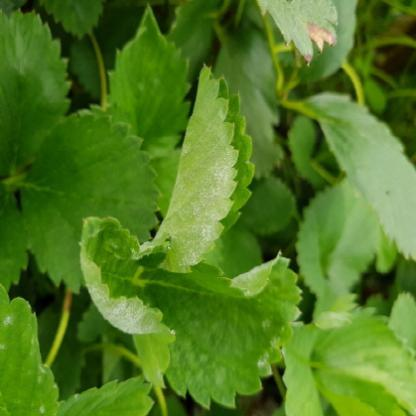Strawberry_Powdery_Mildew_Leaf: (80, 216, 306, 412), (136, 63, 256, 276), (0, 283, 157, 415)
